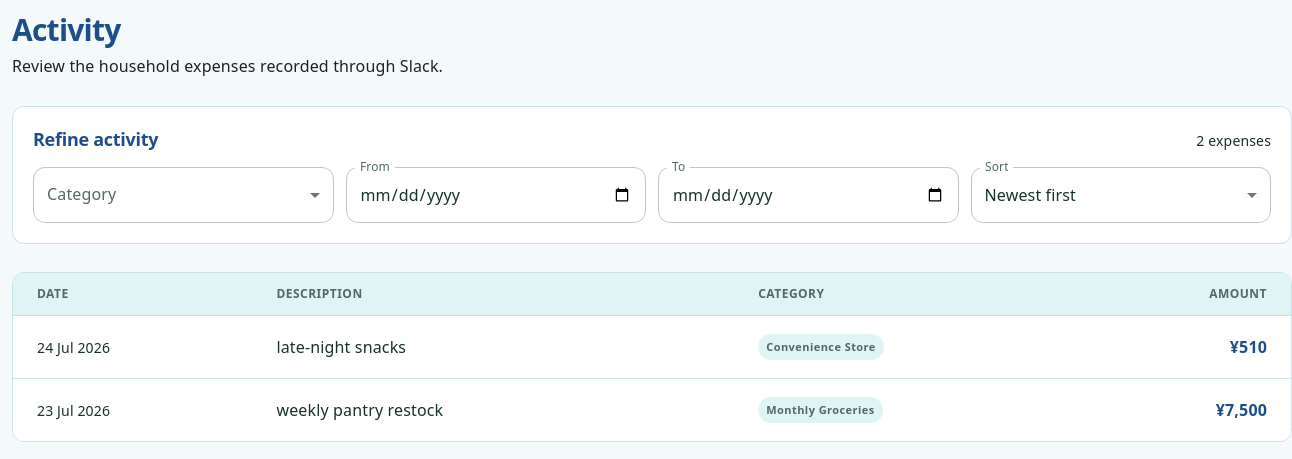
Test: ActivityPage › filters by category and clears the filter
Click the dropdown named "Category" at x=183, y=195, box x1=33 y1=167 x2=334 y2=223
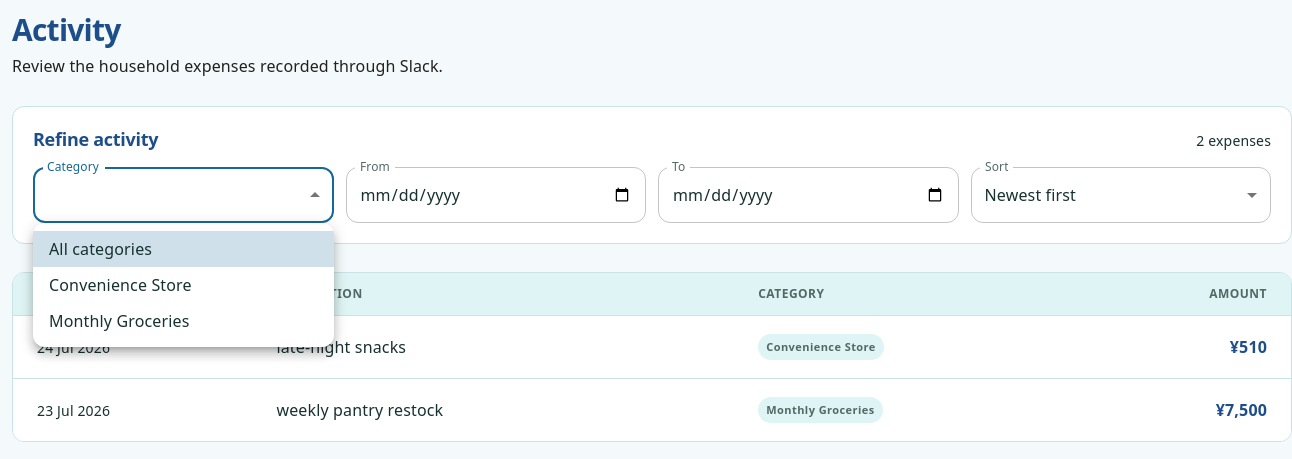
Click the option "Monthly Groceries" at x=119, y=321, box x1=49 y1=310 x2=190 y2=332
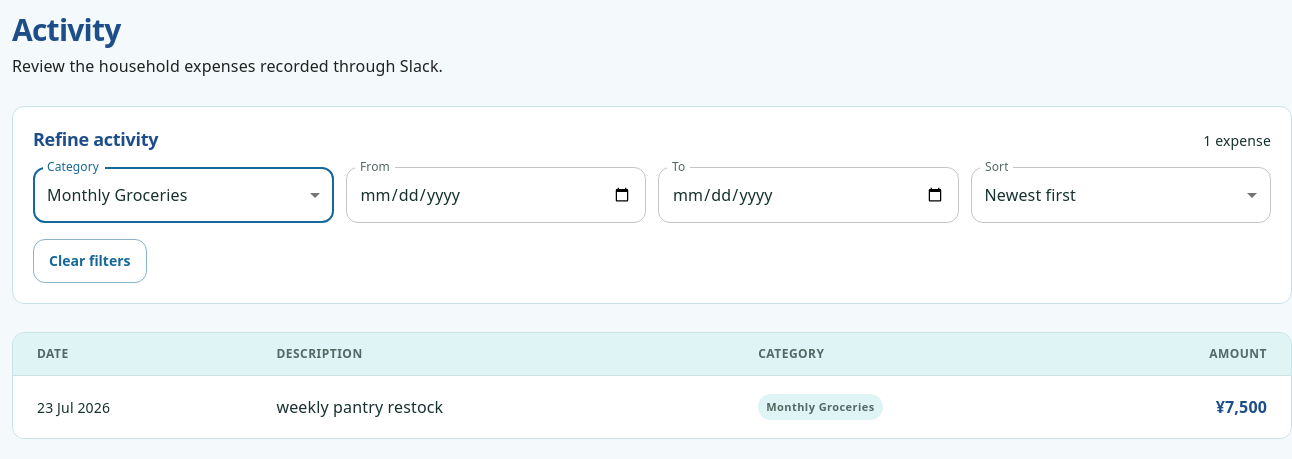
Expected: the text "weekly pantry restock" is shown, x1=276 y1=396 x2=443 y2=418
Result: the text "late-night snacks" is gone
Result: the text "1 expense" is shown at x1=1203 y1=130 x2=1271 y2=151
Click the button "Clear filters" at x=90, y=261, box x1=33 y1=239 x2=146 y2=283
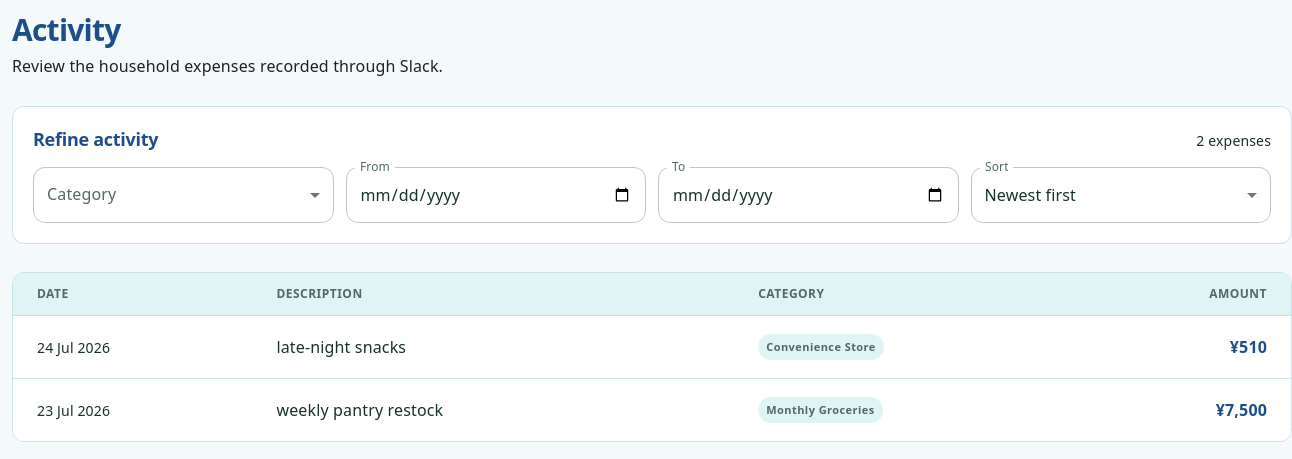
Result: the text "late-night snacks" is shown at x1=276 y1=336 x2=406 y2=358
Result: the text "2 expenses" is shown at x1=1196 y1=130 x2=1271 y2=151
